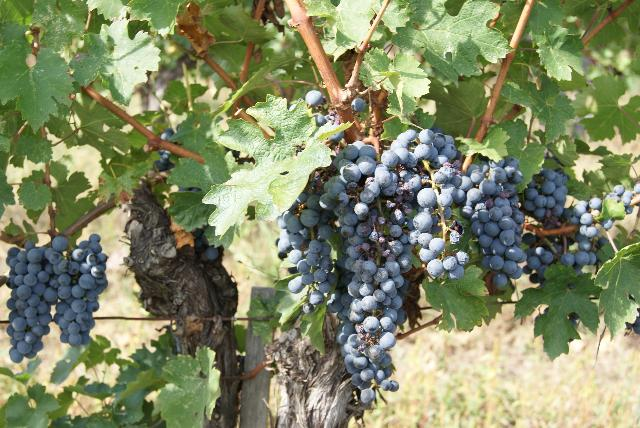grapes: (328, 142, 415, 404), (380, 129, 470, 280), (460, 158, 526, 288), (6, 236, 68, 362), (276, 192, 336, 314), (56, 234, 108, 348)
